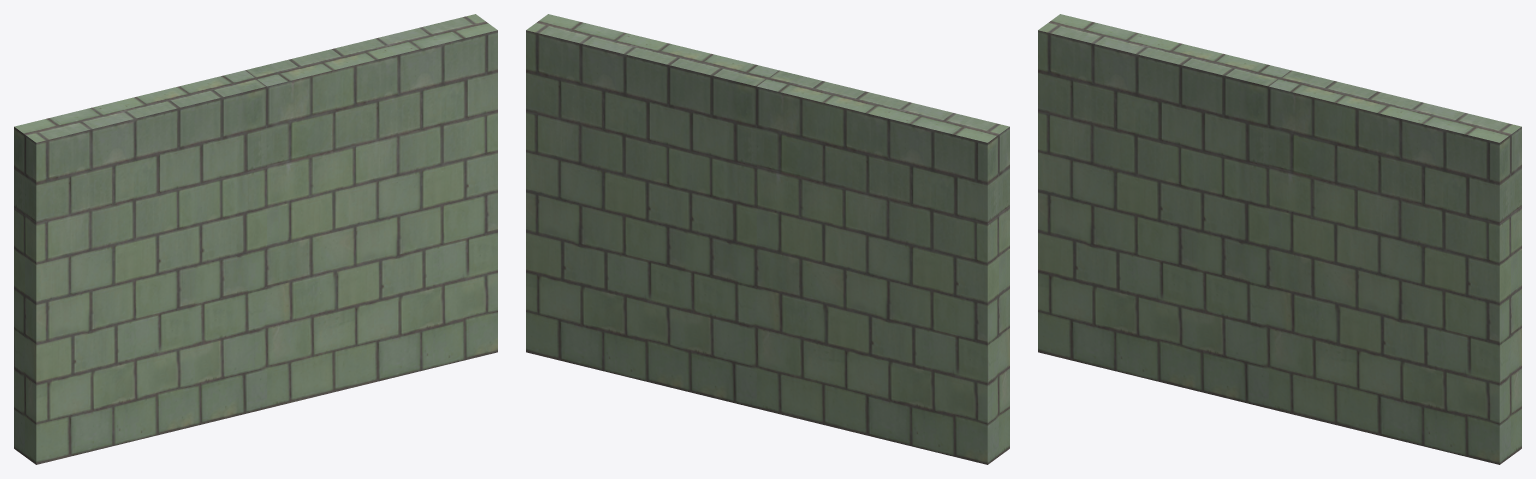
The model's file is door.obj.
3 renders of one model, left to right at view 1: azimuth 30°, elevation 25°; view 2: azimuth 150°, elevation 25°; view 3: azimuth 330°, elevation 25°, orthographic.
Parts seen in each view (by area): view 1: Door_R, Door_L; view 2: Door_R, Door_L; view 3: Door_L, Door_R.
Part boxes in pixels (x1,y1,x2,y2): Door_R: (14, 70, 266, 464); Door_L: (245, 14, 497, 408); Door_R: (757, 70, 1009, 464); Door_L: (526, 14, 778, 408); Door_L: (1269, 70, 1521, 464); Door_R: (1038, 14, 1290, 408).
Size of the model in its own units: 6 by 4 by 0.5.
1 material, 1 textured.
